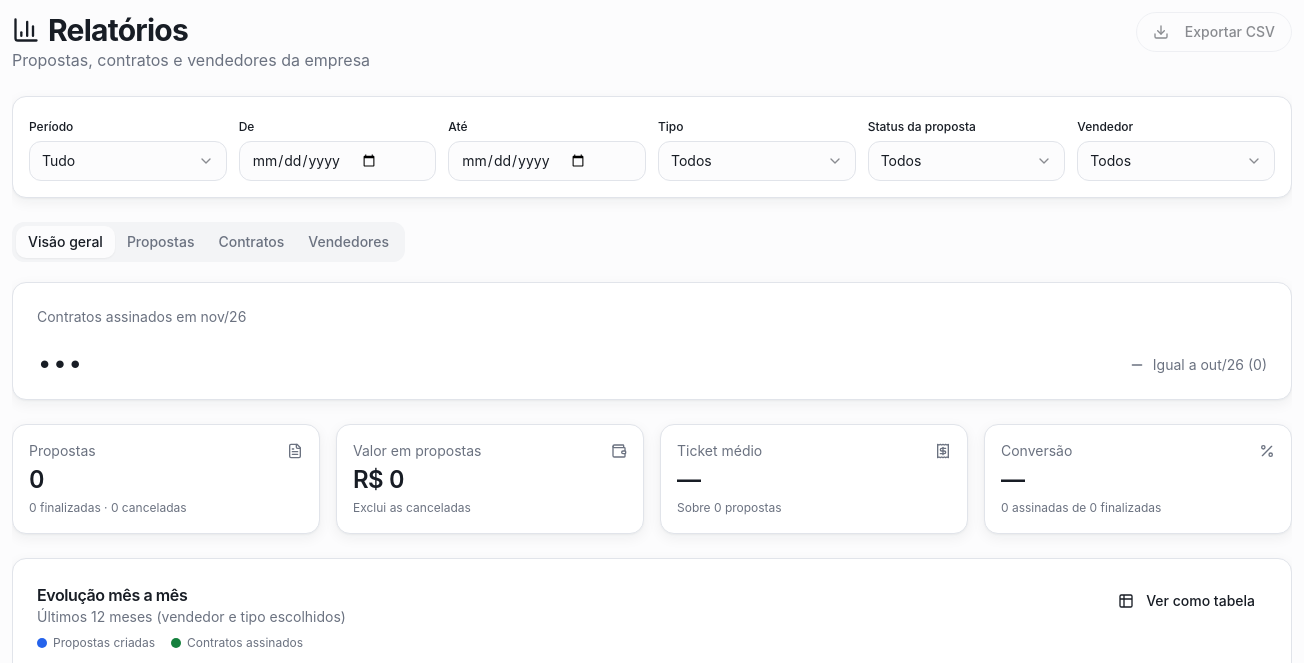
Test: página de Relatórios com gráficos › aba Propostas: ranking de clientes soma por cliente e ignora canceladas
Expected: the heading "Evolução mês a mês" is shown, [37,585,187,605]
Press the mouse on the tab "Propostas" at (161, 242), box [115,226,206,258]
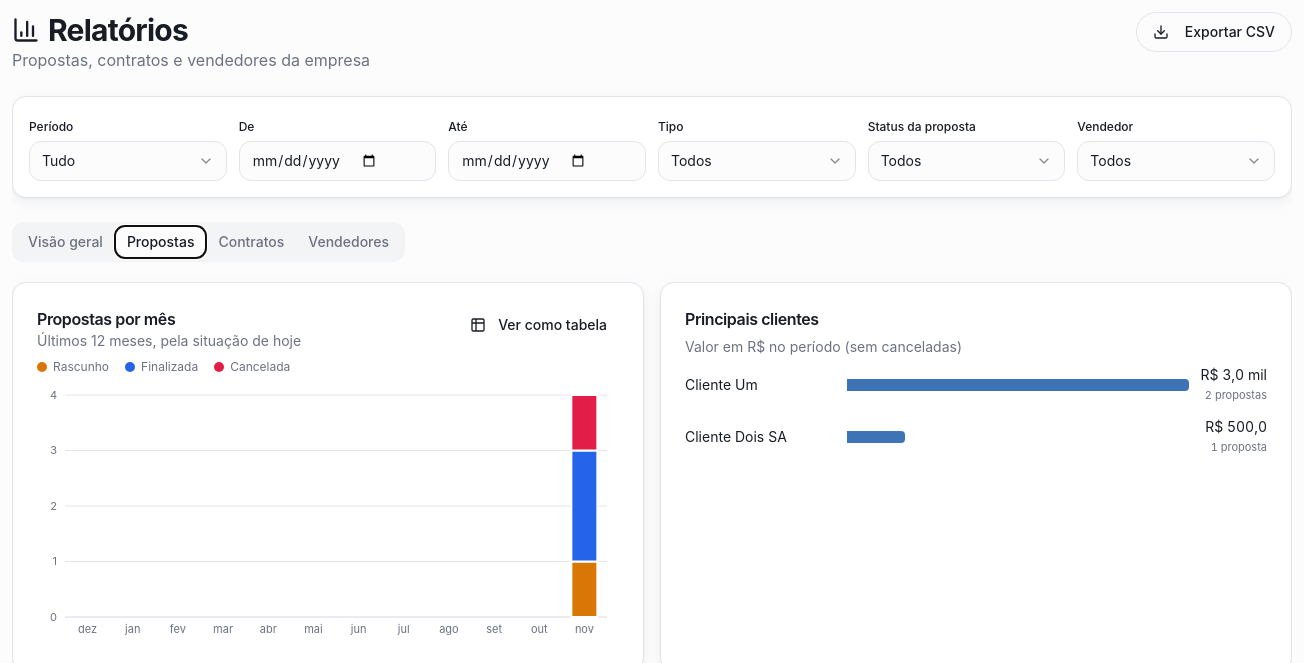
Expected: the list item "Cliente Um R$ 3,0 mil 2 propostas" is shown, [685,365,1267,405]
Expected: the list item "Cliente Dois SA R$ 500,0 1 proposta" is shown, [685,417,1267,457]
